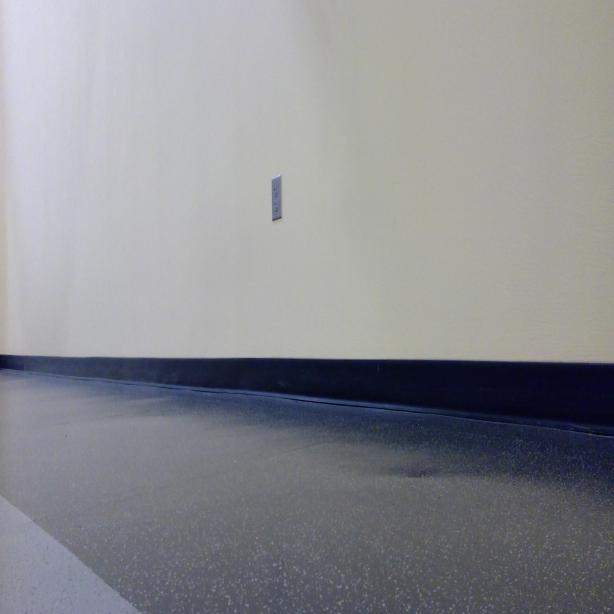typeb: (272, 199, 280, 214), (272, 184, 280, 198)
